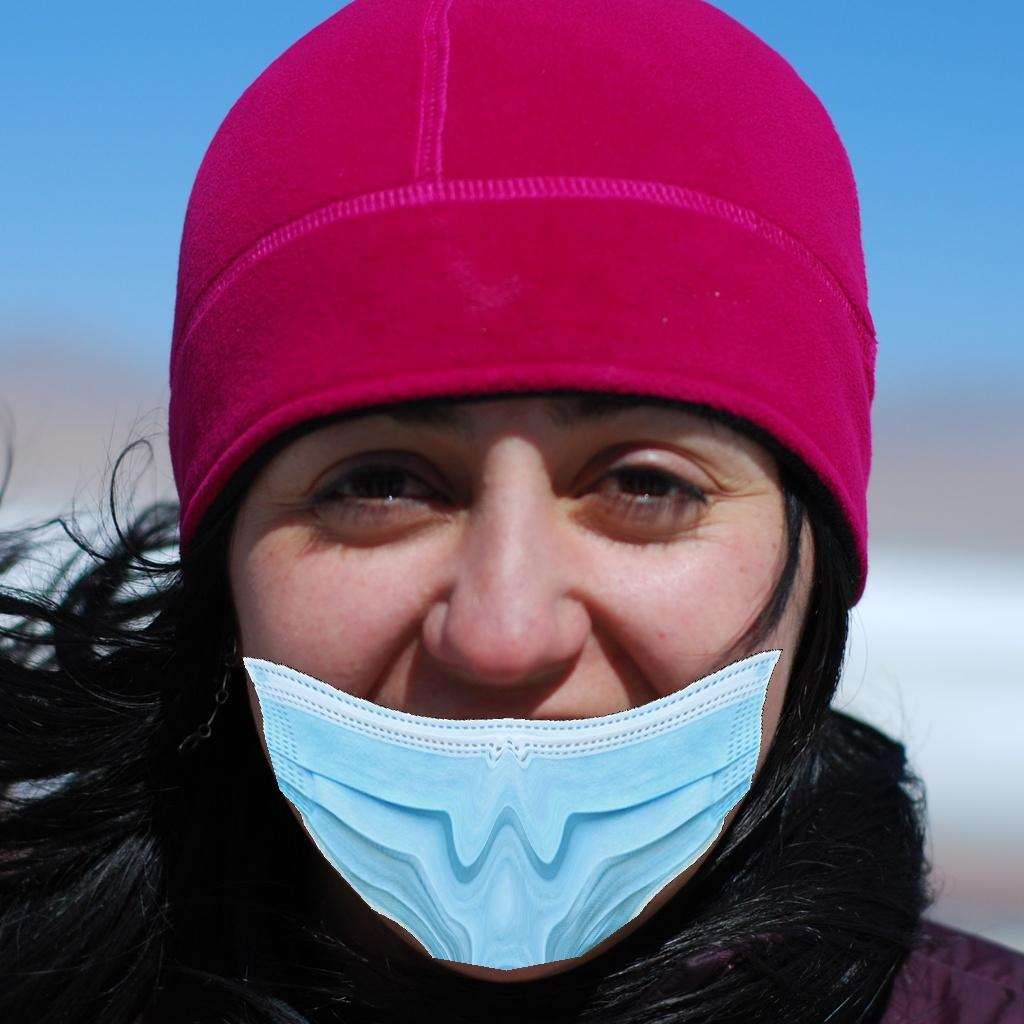Máscara Incorreta: (215, 300, 822, 950)
